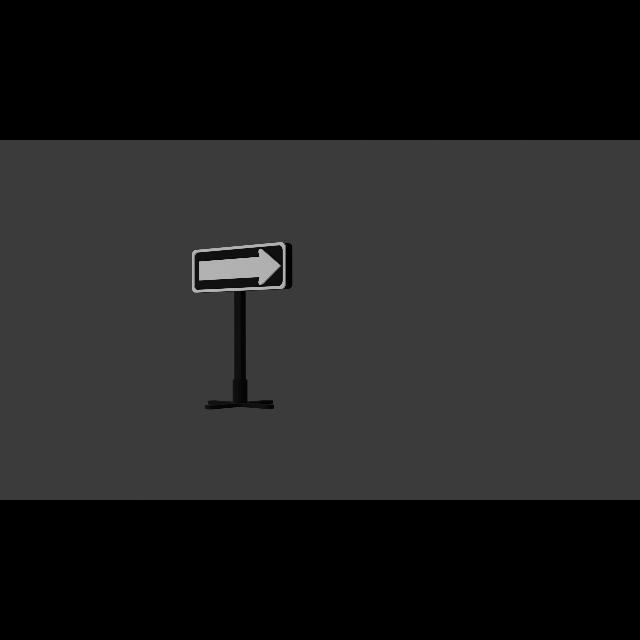sign_oneway_right: (192, 242, 289, 294)
